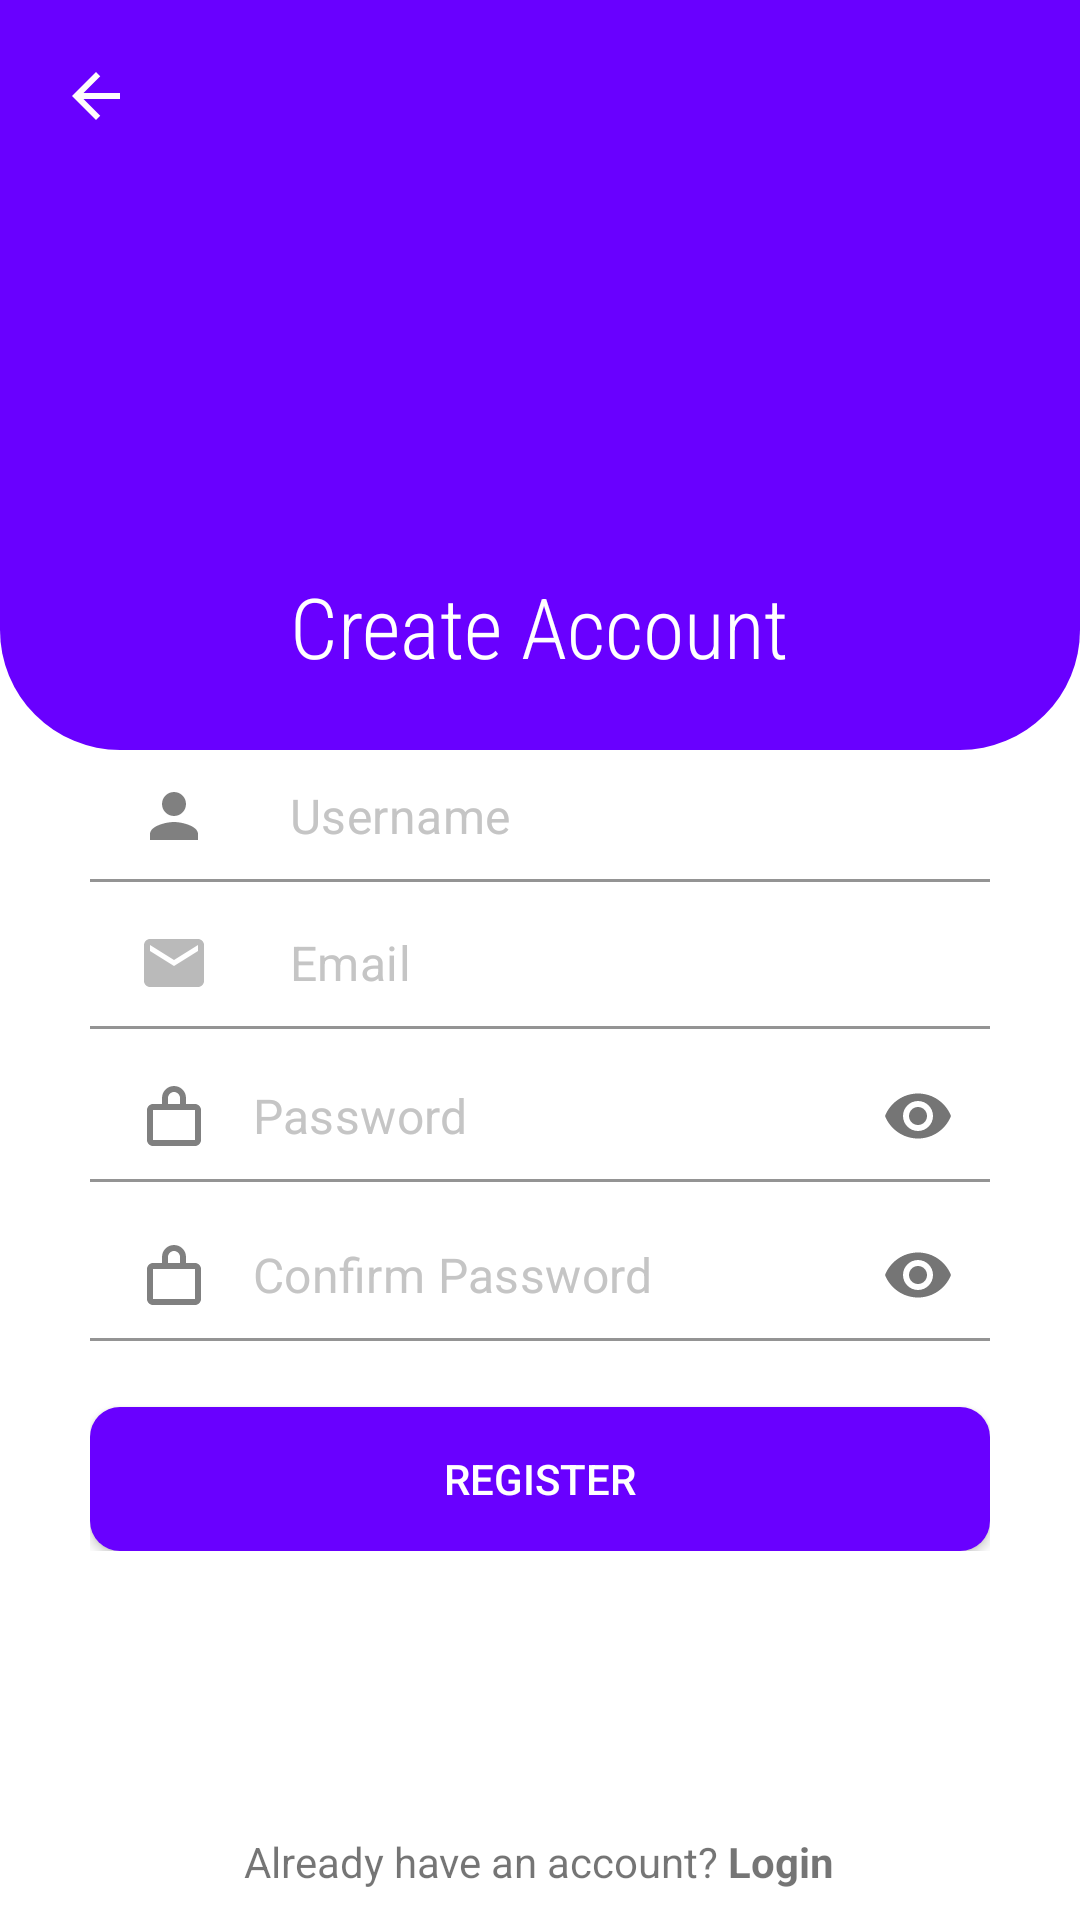

Screen size 1080*1920. Icon name, then its box in pixels as (x1, y1, x2, y2):
arrow: (72, 72, 120, 120)
